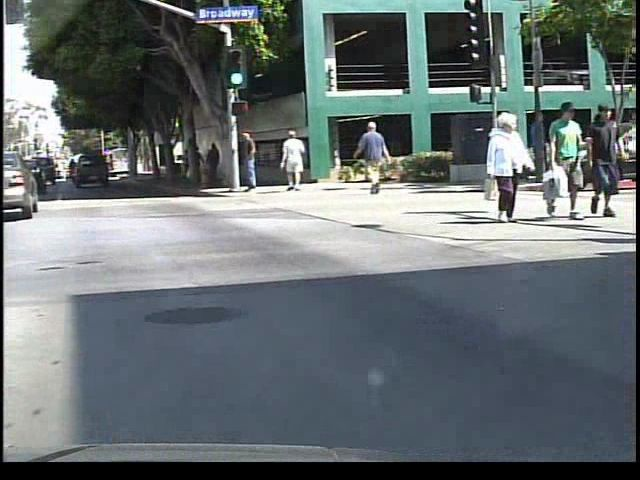person: (485, 112, 539, 227), (547, 100, 585, 221), (586, 102, 624, 218), (355, 121, 396, 194), (526, 108, 556, 183), (246, 124, 275, 201), (284, 126, 312, 194), (209, 138, 229, 188), (196, 144, 211, 188)
